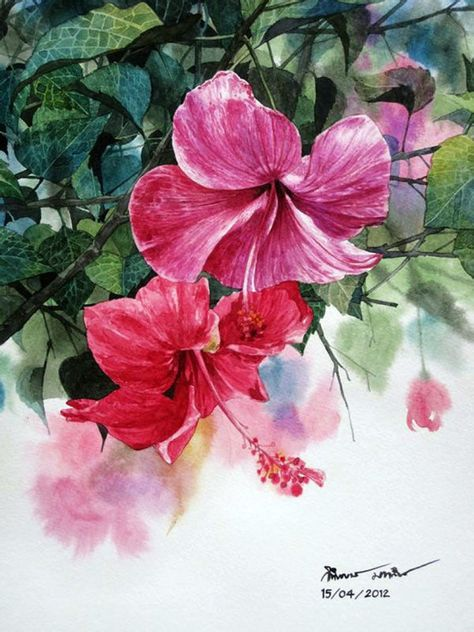Hibiscus: (75, 271, 333, 504), (143, 84, 392, 281)
